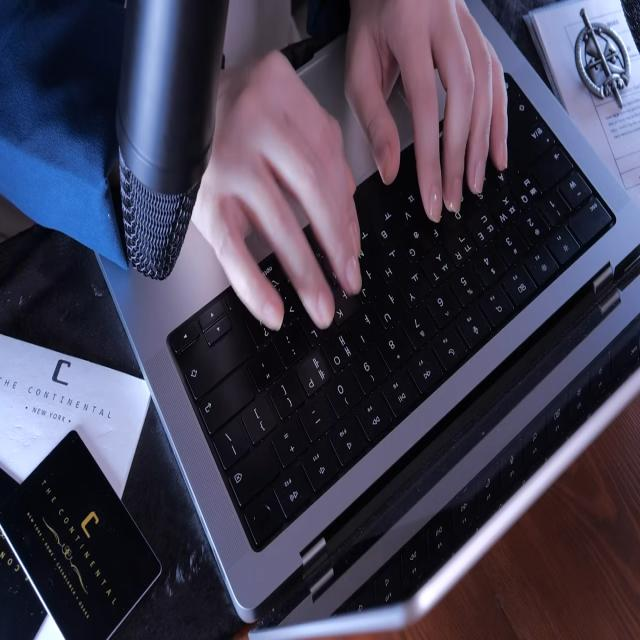keyboard-with-hands: (166, 67, 618, 555)
